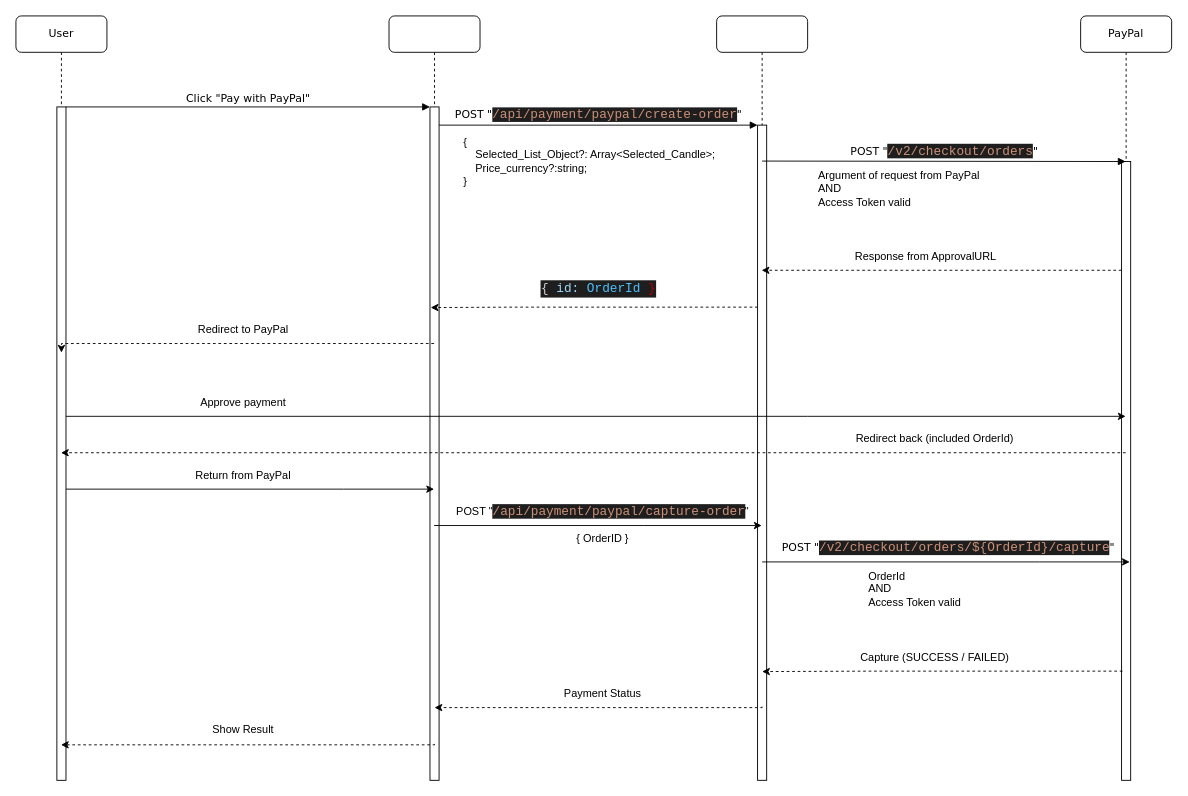
Image size: 1188x796. Some labels were removed from this diagram. The shapes that lost their labels are listed below. From the top down, each one's box as (x1, y1, x2, y2) in pixels, then its label:
(388, 15, 480, 780): Frontend
(716, 15, 808, 780): Backend
